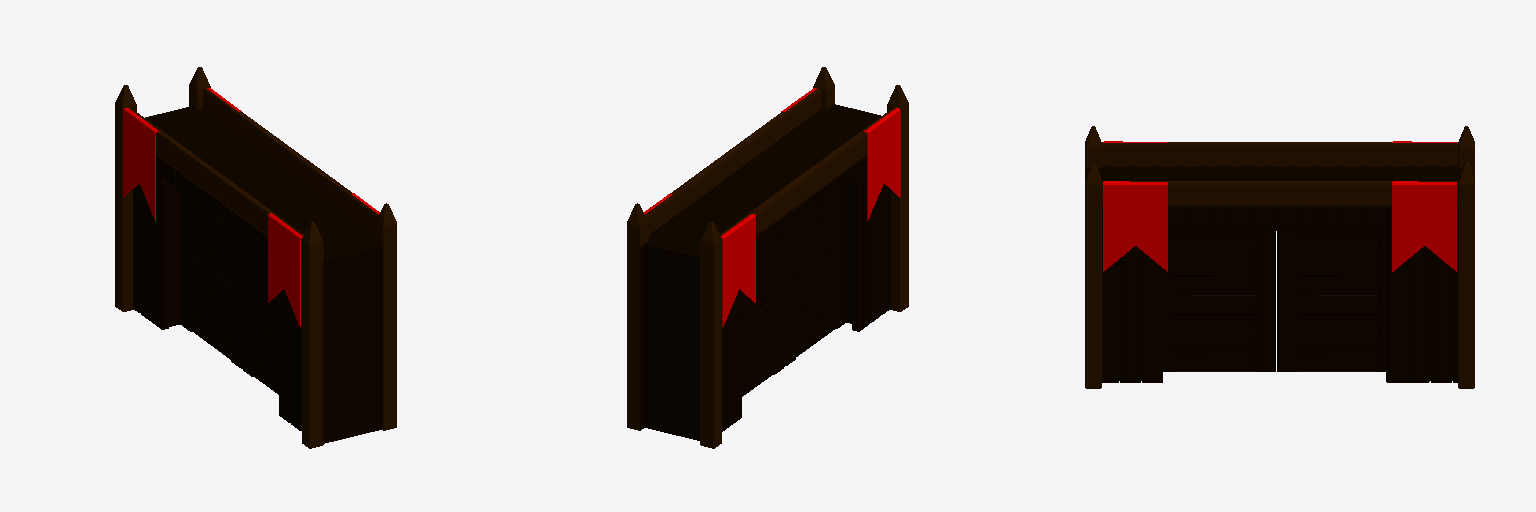
Rendered from Gate_Level1_RedTeam.obj.
3 renders of one model, left to right at view 1: azimuth 30°, elevation 25°; view 2: azimuth 150°, elevation 25°; view 3: azimuth 270°, elevation 25°, orthographic.
Visible parts, largest first — view 1: Gate_Level1_RedTeam_Cube.003; view 2: Gate_Level1_RedTeam_Cube.003; view 3: Gate_Level1_RedTeam_Cube.003.
Boxes of the visible parts, box(x1,y1,x2,y2) form: Gate_Level1_RedTeam_Cube.003: box(115, 67, 396, 448); Gate_Level1_RedTeam_Cube.003: box(627, 67, 908, 448); Gate_Level1_RedTeam_Cube.003: box(1085, 126, 1474, 388).
Size of the model in its own units: 9.8 by 23.5 by 37.27.